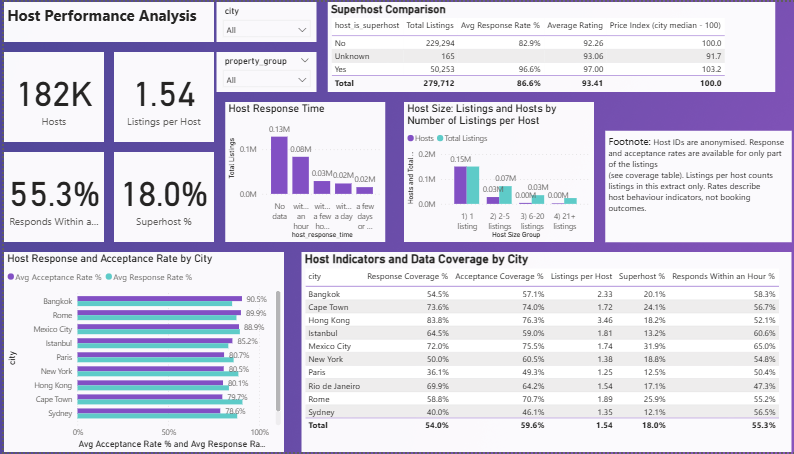

This screenshot's page, from the dashboard's own definition file:
{"tool":"powerbi","page":{"name":"Host Performance","canvas":[1280,720],"ordinal":3},"visuals":[{"type":"slicer","fields":{"Values":["dim_city.city"]},"box":[339.2,-0.4,160,64],"z":0},{"type":"slicer","fields":{"Values":["dim_listing.property_group"]},"box":[339.2,79.6,160,64],"z":1000},{"type":"textbox","box":[0,0,336,64],"z":2000},{"type":"card","fields":{"Values":["dim_listing.Hosts"]},"box":[0,80,160,144],"z":3000},{"type":"card","fields":{"Values":["dim_listing.Responds Within an Hour %"]},"box":[0,240,160,144],"z":4000},{"type":"card","fields":{"Values":["dim_listing.Superhost %"]},"box":[176,240,160,144],"z":5000},{"type":"card","fields":{"Values":["dim_listing.Listings per Host"]},"box":[176,80,160,144],"z":6000},{"type":"clusteredBarChart","title":"Host Response and Acceptance Rate by City","fields":{"Category":["dim_city.city"],"Y":["dim_listing.Avg Acceptance Rate %","dim_listing.Avg Response Rate %"]},"box":[0,400,448,320],"z":7000},{"type":"tableEx","title":"Host Indicators and Data Coverage by City","fields":{"Values":["dim_city.city","dim_listing.Response Coverage %","dim_listing.Acceptance Coverage %","dim_listing.Listings per Host","dim_listing.Superhost %","dim_listing.Responds Within an Hour %"]},"box":[476,400,784,320],"z":8000},{"type":"clusteredColumnChart","title":"Host Response Time","fields":{"Category":["dim_listing.host_response_time"],"Y":["dim_listing.Total Listings"]},"box":[354,160,256,224],"z":9000},{"type":"clusteredColumnChart","title":"Host Size: Listings and Hosts by Number of Listings per Host","fields":{"Category":["dim_listing.Host Size Group"],"Y":["dim_listing.Hosts","dim_listing.Total Listings"]},"box":[640,160,304,224],"z":10000},{"type":"tableEx","title":"Superhost Comparison","fields":{"Values":["dim_listing.host_is_superhost","dim_listing.Total Listings","dim_listing.Avg Response Rate %","dim_listing.Average Rating","dim_listing.Price Index (city median - 100)"]},"box":[518,0,716,144],"z":11000},{"type":"textbox","box":[962,206,298,178],"z":12000}]}

Visuals, with their boxes in screenshot pixels (x1, y1, x2, y2), scaled from the page's 1280x720 canvas onto the 794x454 screenshot:
slicer - dim_city.city: <box>210,0,310,40</box>
slicer - dim_listing.property_group: <box>210,50,310,91</box>
textbox: <box>0,0,208,40</box>
card - dim_listing.Hosts: <box>0,50,99,141</box>
card - dim_listing.Responds Within an Hour %: <box>0,151,99,242</box>
card - dim_listing.Superhost %: <box>109,151,208,242</box>
card - dim_listing.Listings per Host: <box>109,50,208,141</box>
"Host Response and Acceptance Rate by City" clusteredBarChart: <box>0,252,278,453</box>
"Host Indicators and Data Coverage by City" tableEx: <box>295,252,782,453</box>
"Host Response Time" clusteredColumnChart: <box>220,101,378,242</box>
"Host Size: Listings and Hosts by Number of Listings per Host" clusteredColumnChart: <box>397,101,586,242</box>
"Superhost Comparison" tableEx: <box>321,0,765,91</box>
textbox: <box>597,130,782,242</box>
